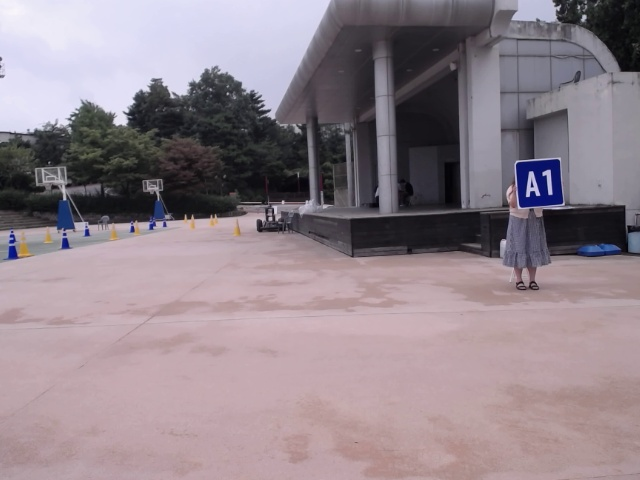delivery_a1: (515, 157, 564, 209)
